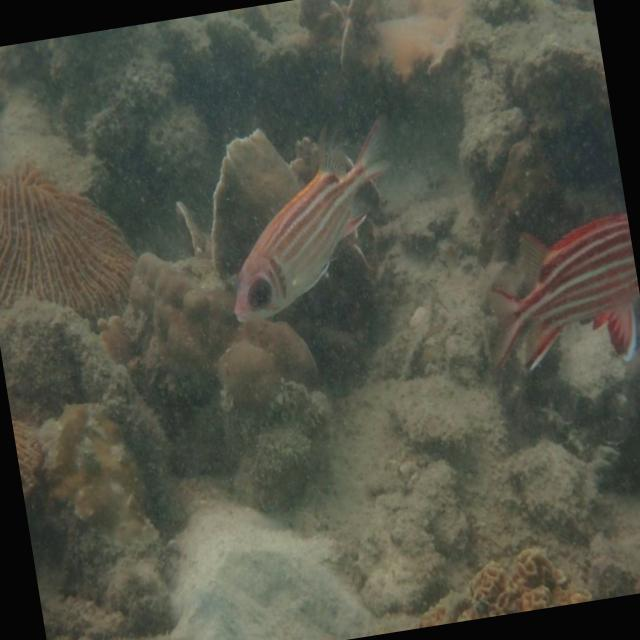Asker Baligi: (204, 110, 414, 328), (471, 208, 640, 385)
